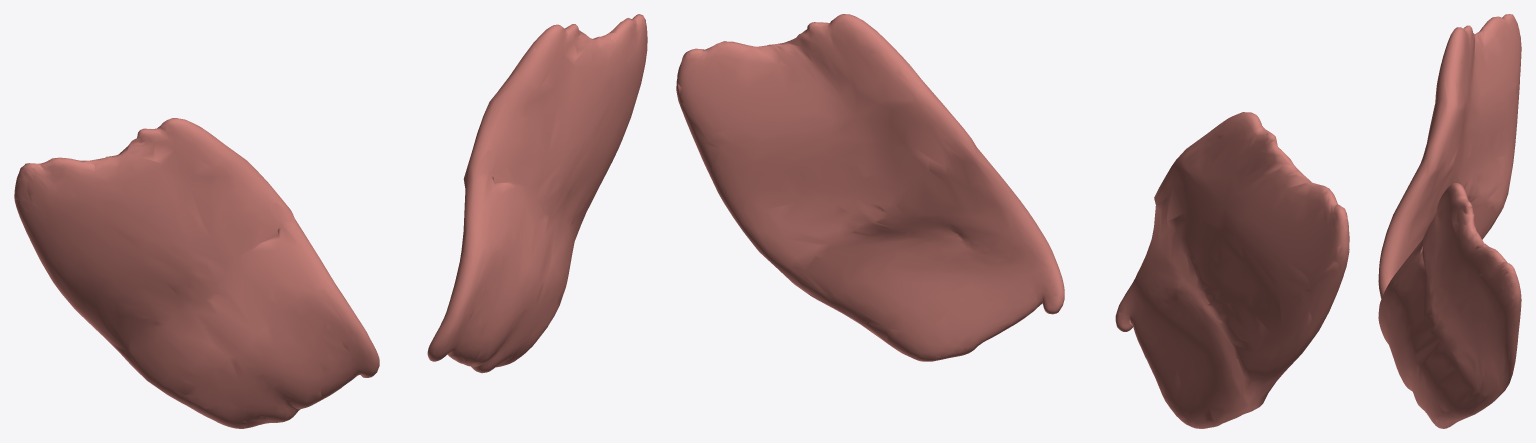
The model's file is mentalis_lod1.glb.
3 renders of one model, left to right at view 1: azimuth 30°, elevation 25°; view 2: azimuth 150°, elevation 25°; view 3: azimuth 270°, elevation 25°, orthographic. The views are drawn at different scales.
Parts seen in each view (by area): view 1: mentalis_R_lod1, mentalis_L_lod1; view 2: mentalis_L_lod1, mentalis_R_lod1; view 3: mentalis_L_lod1, mentalis_R_lod1.
Part boxes in pixels (bbox=[...]): mentalis_R_lod1: bbox=[14, 118, 379, 428]; mentalis_L_lod1: bbox=[427, 14, 647, 373]; mentalis_L_lod1: bbox=[676, 14, 1064, 361]; mentalis_R_lod1: bbox=[1115, 112, 1349, 428]; mentalis_L_lod1: bbox=[1378, 183, 1521, 428]; mentalis_R_lod1: bbox=[1378, 14, 1521, 298].
Size of the model in its own units: 0.0301 by 0.0144 by 0.00701.
